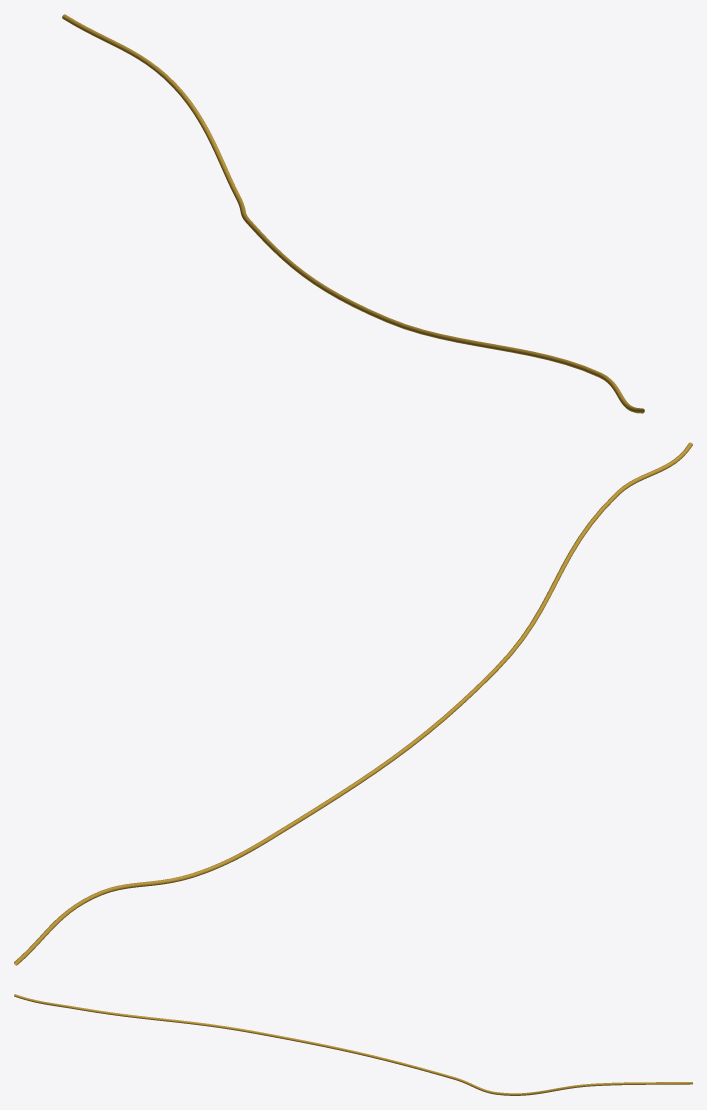
3 renders of one model, top to bottom at view 1: azimuth 30°, elevation 25°; view 2: azimuth 150°, elevation 25°; view 3: azimuth 270°, elevation 25°, orthographic. The views are drawn at different scales.
Parts seen in each view (by area): view 1: 右侧生殖股神经生殖支; view 2: 右侧生殖股神经生殖支; view 3: 右侧生殖股神经生殖支.
Boxes of the visible parts, x1=… form: 右侧生殖股神经生殖支: x1=62, y1=14, x2=644, y2=413; 右侧生殖股神经生殖支: x1=14, y1=442, x2=692, y2=965; 右侧生殖股神经生殖支: x1=14, y1=994, x2=692, y2=1095.
Bounding box in the file's own units: 0.0421 × 0.0501 × 0.3778.
